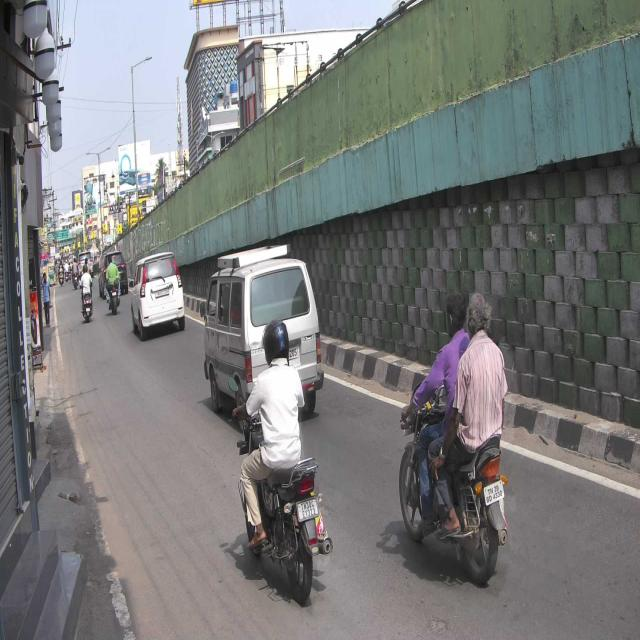double_rider: (398, 288, 508, 581)
single_rider: (230, 316, 332, 606)
